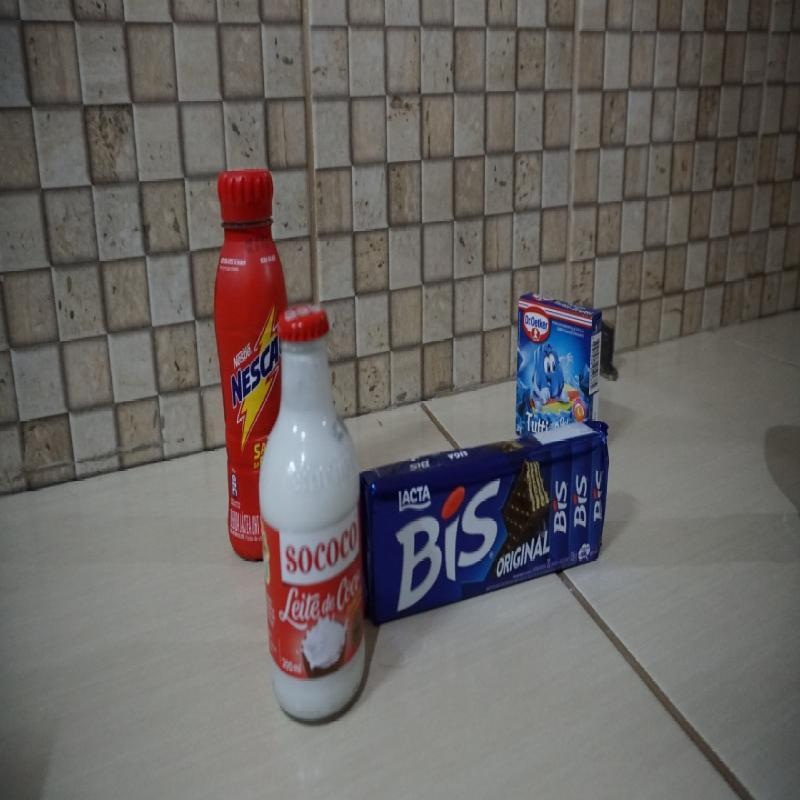Chocolate Milk: (216, 164, 258, 558)
Coconut Milk: (263, 306, 366, 717)
Gelatine: (510, 287, 604, 417)
